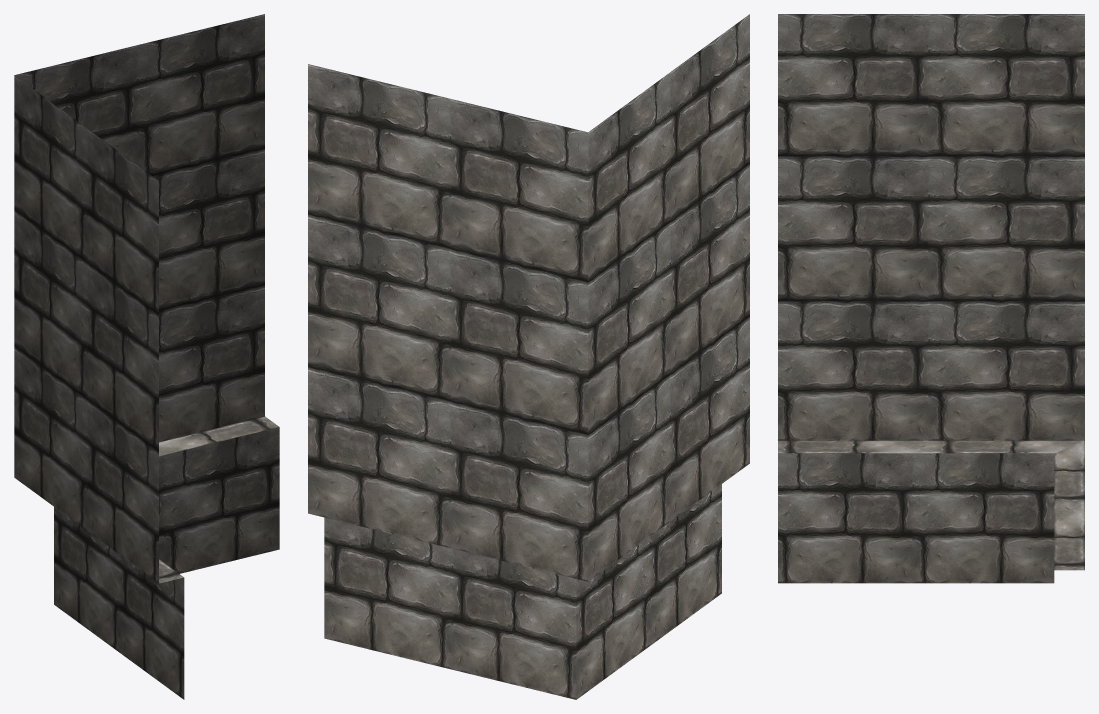
File: Castle Walls Inside Corner 1.FBX
3 renders of one model, left to right at view 1: azimuth 30°, elevation 25°; view 2: azimuth 150°, elevation 25°; view 3: azimuth 270°, elevation 25°, orthographic. The views are drawn at different scales.
Parts seen in each view (by area): view 1: Corner Plane003; view 2: Corner Plane003; view 3: Corner Plane003.
Boxes of the visible parts, x1,y1,x2,y2 form: Corner Plane003: (14, 14, 279, 699); Corner Plane003: (308, 14, 749, 699); Corner Plane003: (778, 14, 1084, 583).
Bounding box in the file's own units: 2.54 × 5.08 × 2.54.
1 material, 1 textured.
